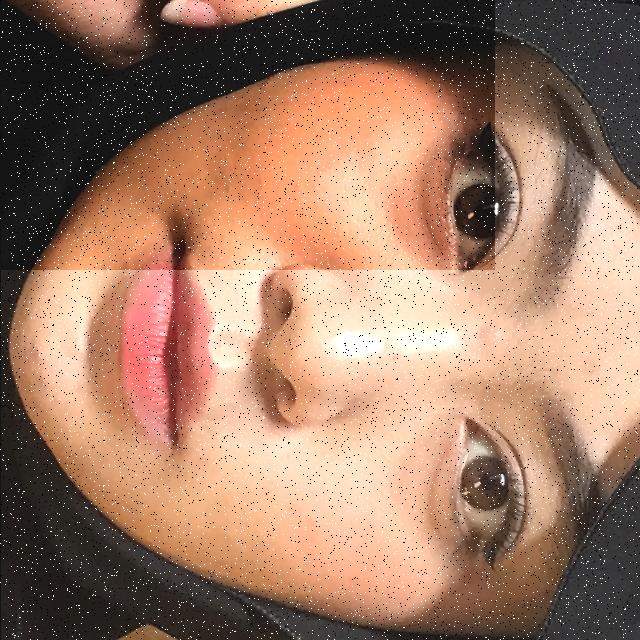ibu: (0, 0, 494, 270)
